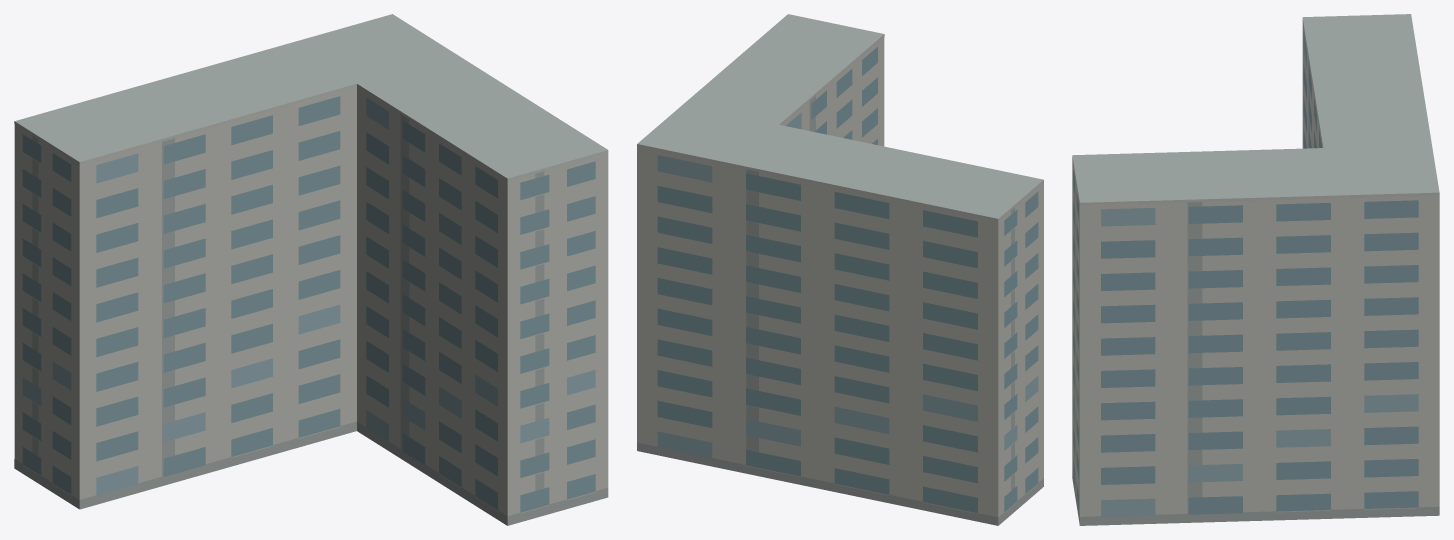
File: residential-703e6965-9e4b-4e6d-b26f-ca78e3d767eb.glb
3 views of the same model, side by side, from view 1: azimuth 30°, elevation 25°; view 2: azimuth 150°, elevation 25°; view 3: azimuth 270°, elevation 25° (orthographic). The views are drawn at different scales.
Visible parts, largest first — view 1: residential-703e6965-9e4b-4e6d-b26f-ca78e3d767eb.tmp; view 2: residential-703e6965-9e4b-4e6d-b26f-ca78e3d767eb.tmp; view 3: residential-703e6965-9e4b-4e6d-b26f-ca78e3d767eb.tmp.
Boxes of the visible parts, x1,y1,x2,y2 form: residential-703e6965-9e4b-4e6d-b26f-ca78e3d767eb.tmp: (14,14,608,525); residential-703e6965-9e4b-4e6d-b26f-ca78e3d767eb.tmp: (637,14,1043,525); residential-703e6965-9e4b-4e6d-b26f-ca78e3d767eb.tmp: (1072,14,1439,525).
Bounding box in the file's own units: 36.35 × 29 × 29.88.
